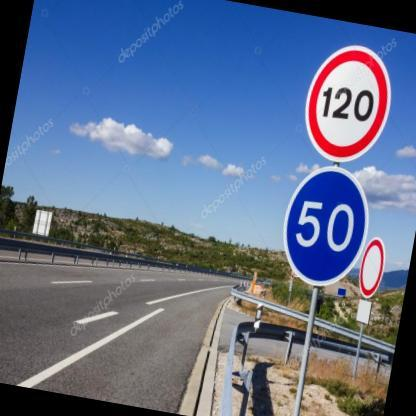road_sign: (304, 45, 392, 165), (284, 166, 368, 286), (359, 239, 387, 299)
